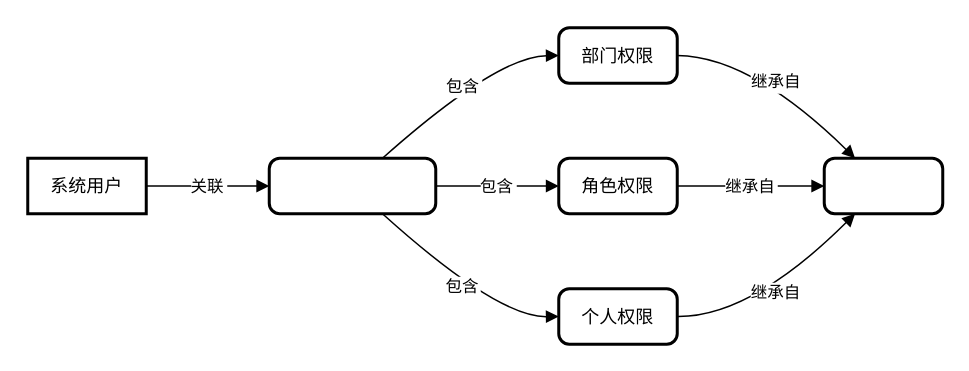
The diagram is 969 pixels wide and 371 high, and some of its shapes have lost their labels. Each missing label, with the centre of its shape:
数据权限控制: point 351,185
组织权限: point 883,185
